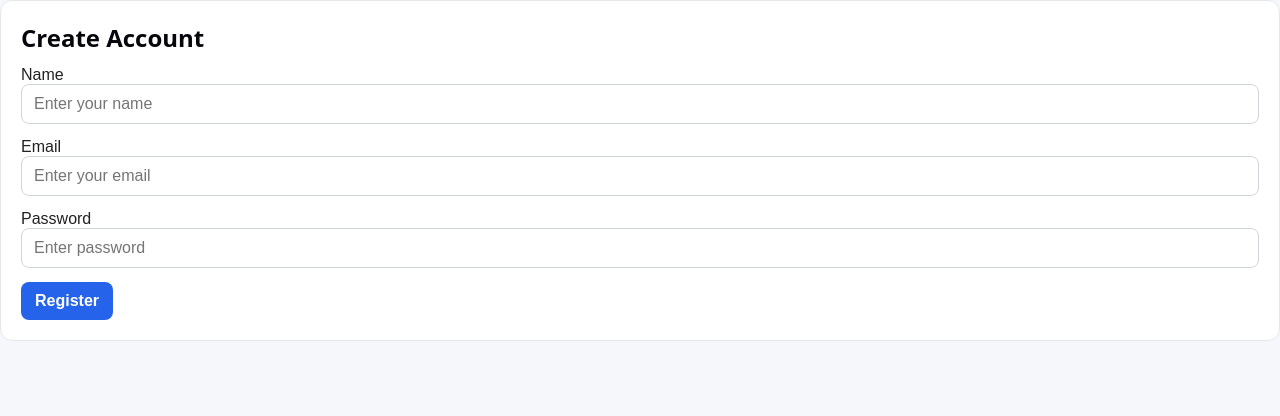
Test case: RegisterPage › shows error message when registration fails
The image size is (1280, 416).
Step 1. Type "Prem" into the field labelled "Name" → (640,104), box [21,84,1259,124]
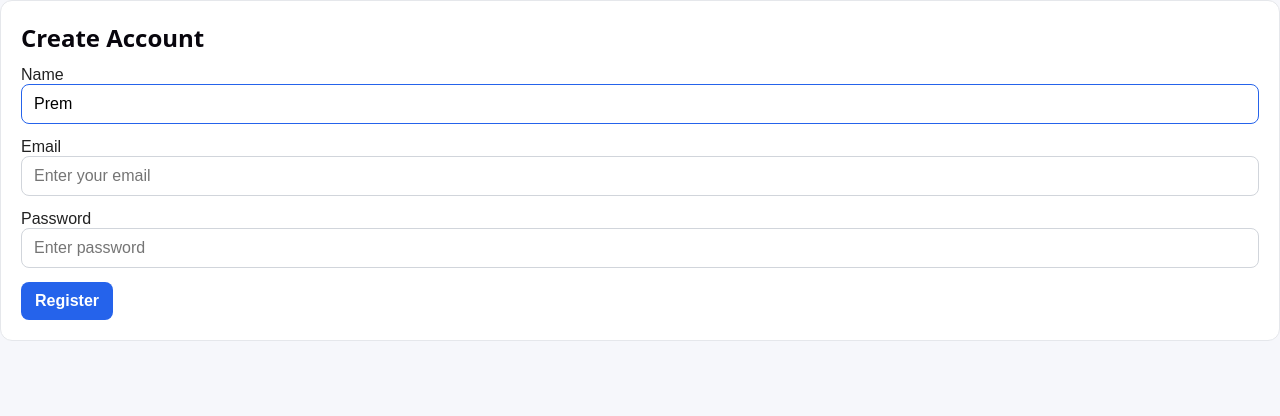
Step 2. Type "prem@example.com" into the field labelled "Email" → (640,176), box [21,156,1259,196]
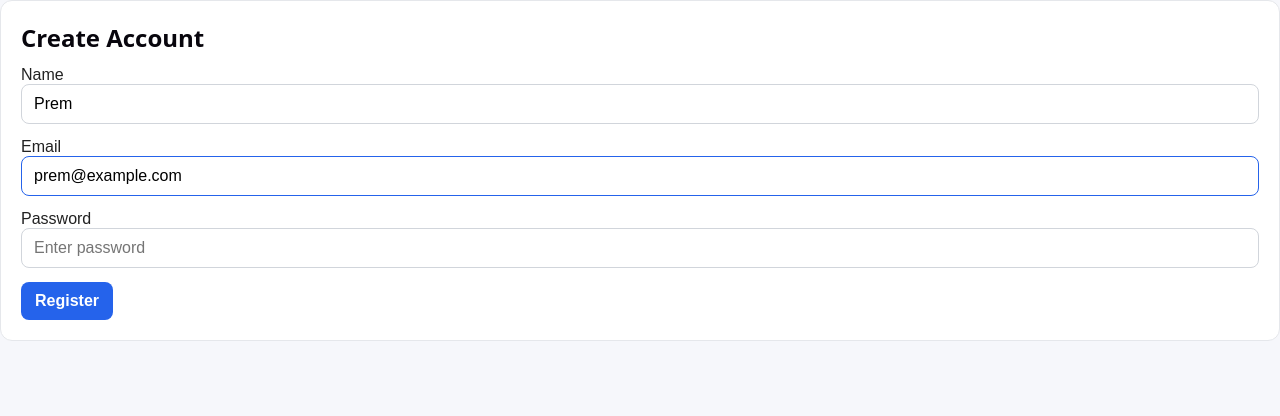
Step 3. Type "password123" into the password field labelled "Password" → (640,248), box [21,228,1259,268]
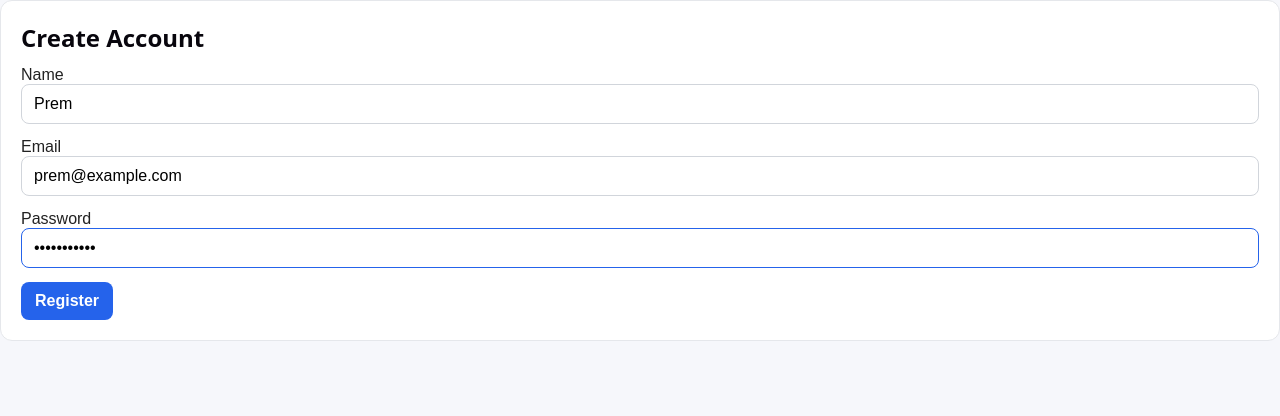
Step 4. Click the button "Register" → (67,301), box [21,282,113,320]
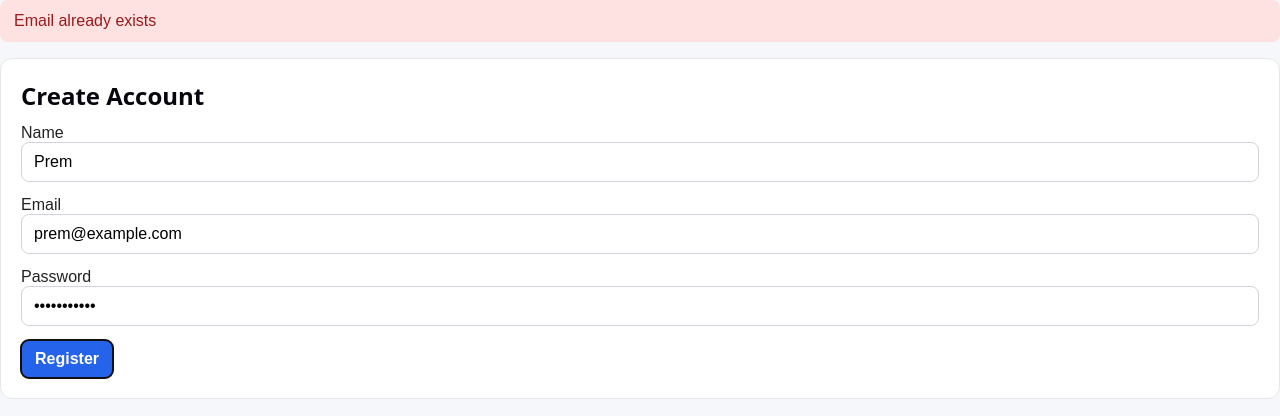
Now the text "Email already exists" is shown, box [14,12,156,29]
